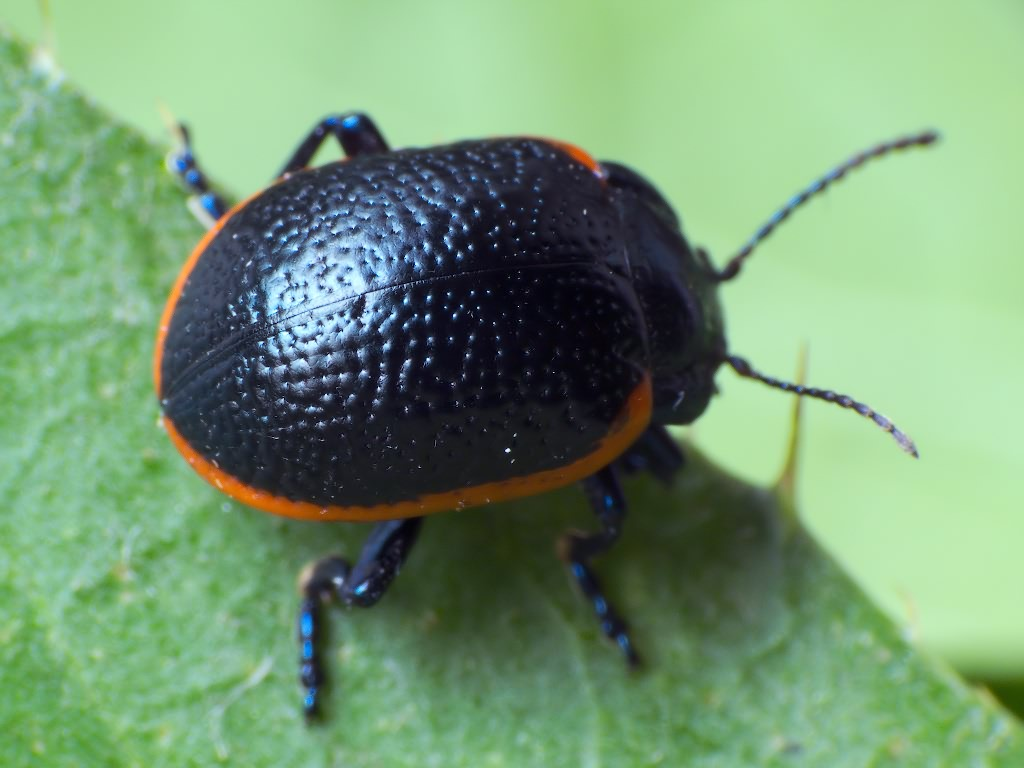Chrysolina_gypsophila: (145, 71, 969, 729)
